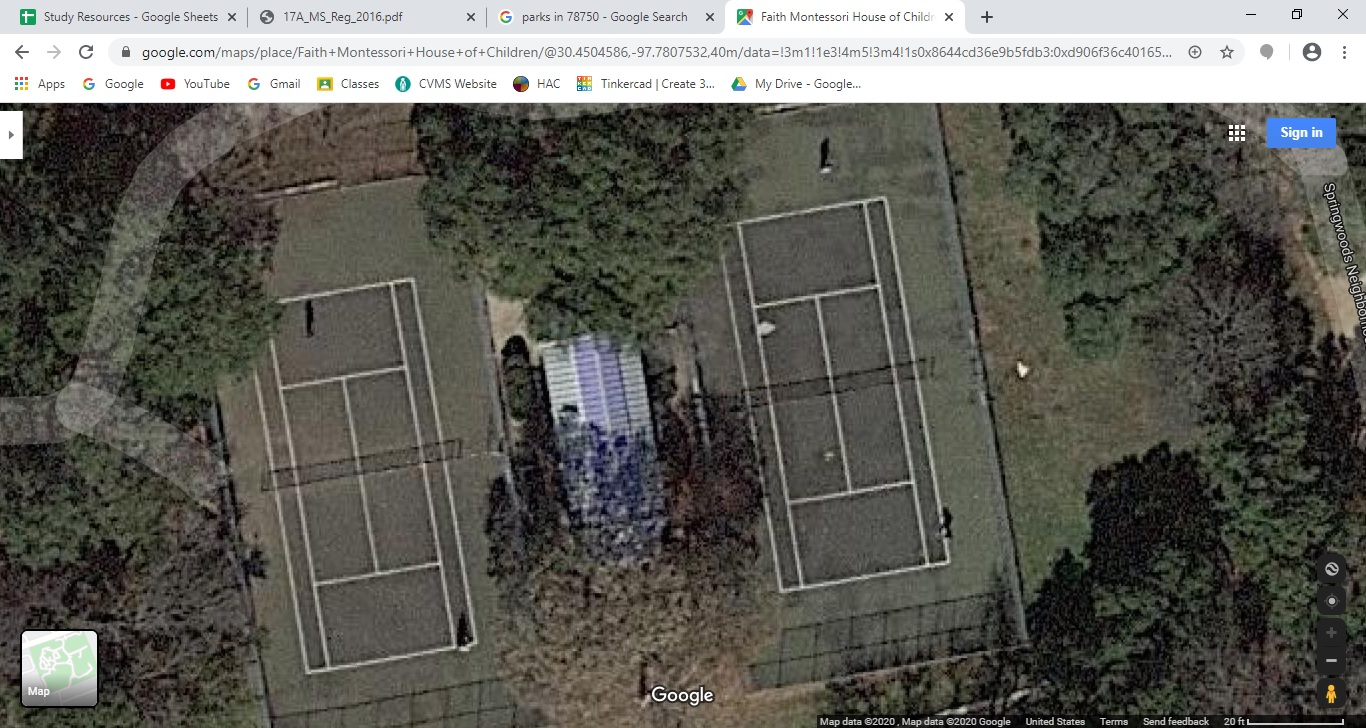tennis: (190, 272, 491, 698), (702, 191, 991, 614)
